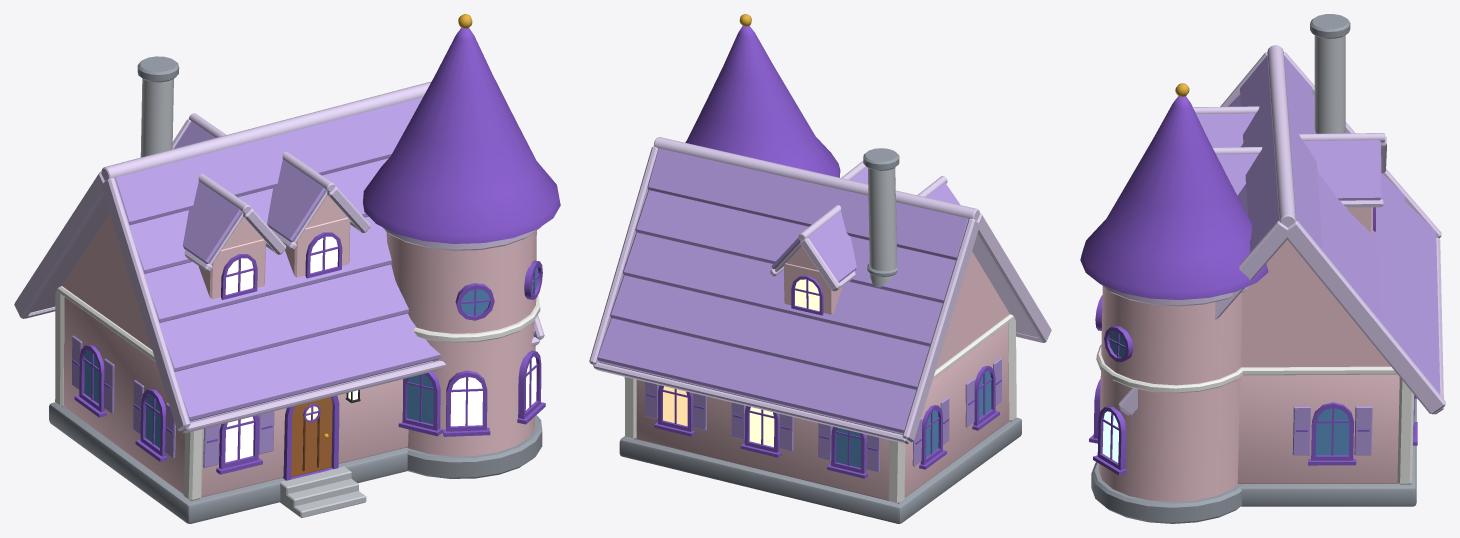
The model's file is casa_torta_torreao_lilas.glb.
3 views of the same model, side by side, from view 1: azimuth 30°, elevation 25°; view 2: azimuth 150°, elevation 25°; view 3: azimuth 270°, elevation 25° (orthographic). The views are drawn at different scales.
Parts seen in each view (by area): view 1: casa_torta_torreao_lilas; view 2: casa_torta_torreao_lilas; view 3: casa_torta_torreao_lilas.
Part boxes in pixels (x1,y1,x2,y2): casa_torta_torreao_lilas: (14,14,560,523); casa_torta_torreao_lilas: (589,14,1051,523); casa_torta_torreao_lilas: (1080,14,1445,523).
Size of the model in its own units: 12.11 by 12.31 by 9.89.
6 materials, 1 textured.
